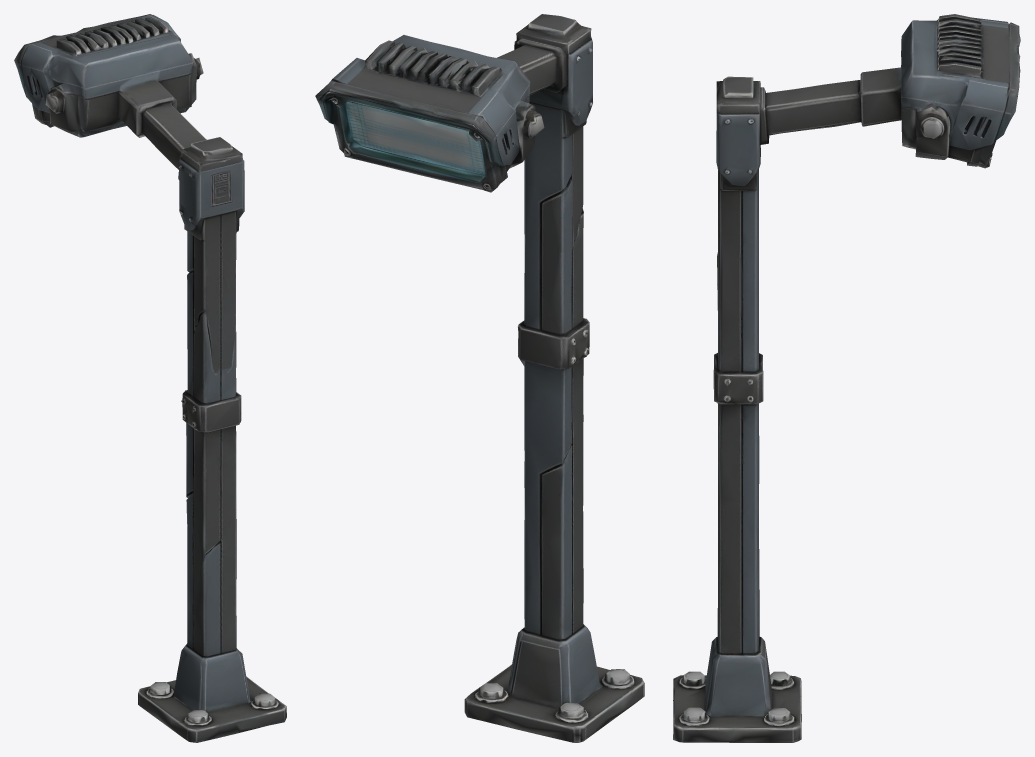
Rendered from lamp.glb.
3 views of the same model, side by side, from view 1: azimuth 30°, elevation 25°; view 2: azimuth 150°, elevation 25°; view 3: azimuth 270°, elevation 25° (orthographic). The views are drawn at different scales.
Visible parts, largest first — view 1: tripo_node_174e4166-1b11-4644-ad0f-e01e82f51d15; view 2: tripo_node_174e4166-1b11-4644-ad0f-e01e82f51d15; view 3: tripo_node_174e4166-1b11-4644-ad0f-e01e82f51d15.
Part boxes in pixels (left/top/right/bottom): tripo_node_174e4166-1b11-4644-ad0f-e01e82f51d15: left=14, top=14, right=286, bottom=742; tripo_node_174e4166-1b11-4644-ad0f-e01e82f51d15: left=315, top=14, right=644, bottom=742; tripo_node_174e4166-1b11-4644-ad0f-e01e82f51d15: left=673, top=14, right=1020, bottom=742.
Bounding box in the file's own units: 0.26 × 1 × 0.4648.
Materials: 1 (1 with a texture image).
